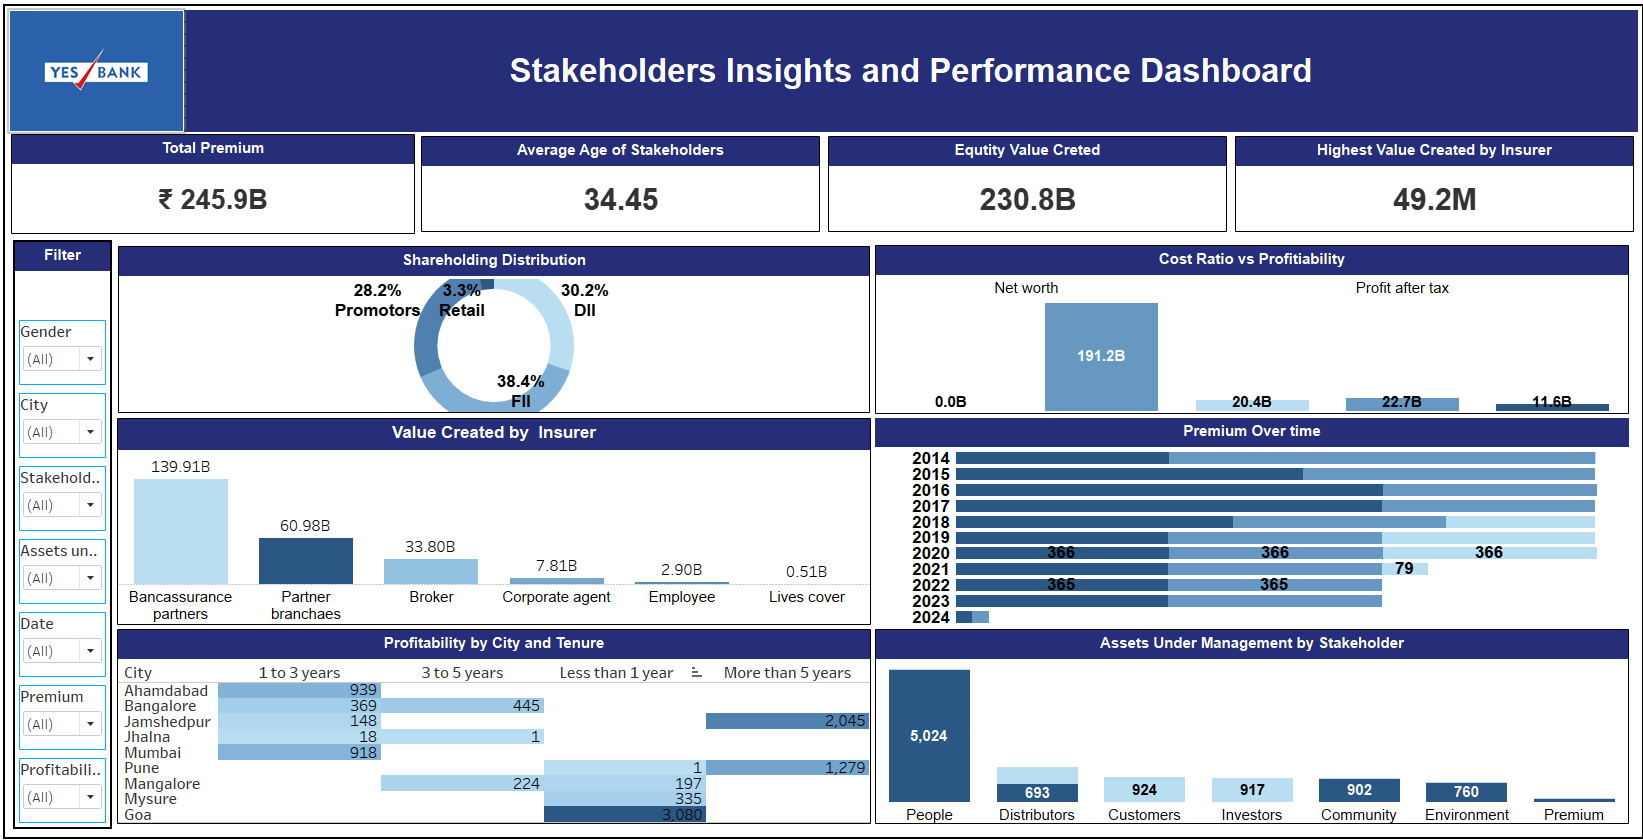

Layout of this report page (visuals, bound fields, positions):
{"tool":"tableau","page":{"name":"Dashboard 1","canvas":[1000,1000],"units":"permille","ordinal":0},"visuals":[{"type":"image","param":"C:/Users/Dipak/OneDrive/Desktop/CSS/download.png","box":[8.4,16.4,105.6,143.4]},{"type":"text","box":[114.1,16.4,877.5,143.4]},{"type":"worksheet","title":"Total Premium","mark":"Automatic","box":[8.4,159.8,246.2,122.2]},{"type":"worksheet","title":"Average Age of Stakeholders","mark":"Automatic","box":[254.7,159.8,245.6,122.2]},{"type":"worksheet","title":"Equtity Value Creted","mark":"Automatic","box":[500.3,159.8,245.6,122.2]},{"type":"worksheet","title":"Highest Value Created by Insurer","mark":"Automatic","box":[745.9,159.8,245.6,122.2]},{"type":"worksheet","title":"Filter","mark":"Automatic","box":[12.1,289.1,57.3,87]},{"type":"worksheet","title":"Shareholding Distribution","mark":"Pie","rows":["Calculation_1671961410469380096","Calculation_1671961410469380096"],"box":[72.4,290.2,457.4,203.3]},{"type":"worksheet","title":"Cost Ratio vs Profitiability","mark":"Automatic","rows":["Value Created"],"cols":["Profitability","Cost ratio"],"box":[529.9,290.2,457.5,203.3]},{"type":"filter","title":"Filter","param":"[federated.0g3d4nk0tzvwv41cb4zyo0x16641].[none:Gender:nk]","box":[12.1,376,57.3,85.8]},{"type":"filter","title":"Filter","param":"[federated.0g3d4nk0tzvwv41cb4zyo0x16641].[none:City:nk]","box":[12.1,461.8,57.3,85.8]},{"type":"worksheet","title":"Value Created by  Insurer","mark":"Automatic","rows":["Value Created"],"cols":["Insurer"],"box":[72.4,493.5,457.4,247.9]},{"type":"worksheet","title":"Premium Over time","mark":"Bar","rows":["Date"],"cols":["Premium 1"],"box":[529.9,493.5,457.5,247.9]},{"type":"filter","title":"Filter","param":"[federated.0g3d4nk0tzvwv41cb4zyo0x16641].[none:Stakeholder:nk]","box":[12.1,547.6,57.3,85.8]},{"type":"filter","title":"Filter","param":"[federated.0g3d4nk0tzvwv41cb4zyo0x16641].[none:Assets under management:nk]","box":[12.1,633.4,57.3,85.8]},{"type":"filter","title":"Filter","param":"[federated.0g3d4nk0tzvwv41cb4zyo0x16641].[my:Date:ok]","box":[12.1,719.1,57.3,85.8]},{"type":"worksheet","title":"Profitability by City and Tenure","mark":"Square","rows":["City"],"cols":["Policy tenuer"],"box":[72.4,741.5,457.4,233.8]},{"type":"worksheet","title":"Assets Under Management by Stakeholder","mark":"Automatic","rows":["Assets under management"],"cols":["Stakeholder"],"box":[529.9,741.5,457.5,233.8]},{"type":"filter","title":"Filter","param":"[federated.0g3d4nk0tzvwv41cb4zyo0x16641].[none:Premium 1:nk]","box":[12.1,804.9,57.3,85.8]},{"type":"filter","title":"Filter","param":"[federated.0g3d4nk0tzvwv41cb4zyo0x16641].[none:Profitability:nk]","box":[12.1,890.7,57.3,85.8]}]}

Visuals, with their boxes on the dashboard's canvas, which has no fixed pixel size, in thousandths of its width and height (x1, y1, x2, y2). These are canvas units, not pixel positions in the 1643x840 screenshot, which may show the page scaled, cropped or inside an application window:
image: [8,16,114,160]
text: [114,16,992,160]
"Total Premium" worksheet: [8,160,255,282]
"Average Age of Stakeholders" worksheet: [255,160,500,282]
"Equtity Value Creted" worksheet: [500,160,746,282]
"Highest Value Created by Insurer" worksheet: [746,160,992,282]
"Filter" worksheet: [12,289,69,376]
"Shareholding Distribution" worksheet (Pie marks): [72,290,530,494]
"Cost Ratio vs Profitiability" worksheet: [530,290,987,494]
"Filter" filter: [12,376,69,462]
"Filter" filter: [12,462,69,548]
"Value Created by  Insurer" worksheet: [72,494,530,741]
"Premium Over time" worksheet (Bar marks): [530,494,987,741]
"Filter" filter: [12,548,69,633]
"Filter" filter: [12,633,69,719]
"Filter" filter: [12,719,69,805]
"Profitability by City and Tenure" worksheet (Square marks): [72,742,530,975]
"Assets Under Management by Stakeholder" worksheet: [530,742,987,975]
"Filter" filter: [12,805,69,891]
"Filter" filter: [12,891,69,976]
